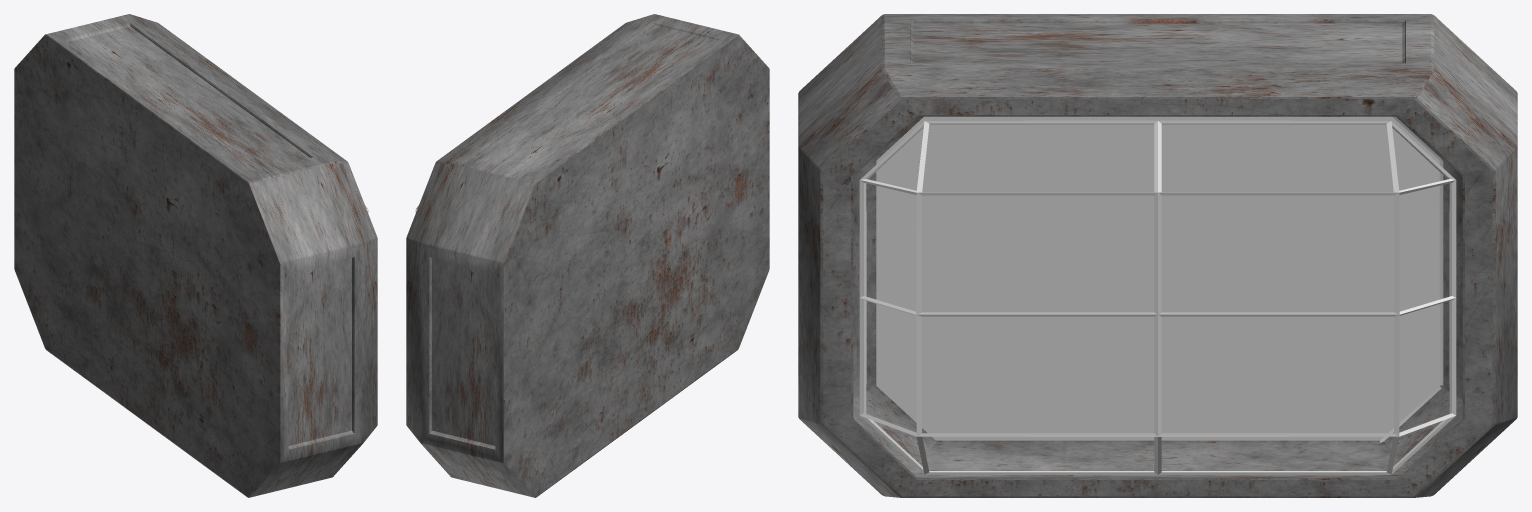
File: LuzParedChica.fbx
3 renders of one model, left to right at view 1: azimuth 30°, elevation 25°; view 2: azimuth 150°, elevation 25°; view 3: azimuth 270°, elevation 25°, orthographic. The views are drawn at different scales.
Parts seen in each view (by area): view 1: LuzParedChica_Base; view 2: LuzParedChica_Base; view 3: LuzParedChica_Base, LuzParedChica_Rejilla.
Boxes of the visible parts, x1,y1,x2,y2 form: LuzParedChica_Base: (14,14,377,497); LuzParedChica_Base: (406,14,769,497); LuzParedChica_Base: (798,14,1517,497); LuzParedChica_Rejilla: (859,120,1456,474).
Size of the model in its own units: 26.97 by 61.48 by 93.81.
Materials: 2 (1 with a texture image).
